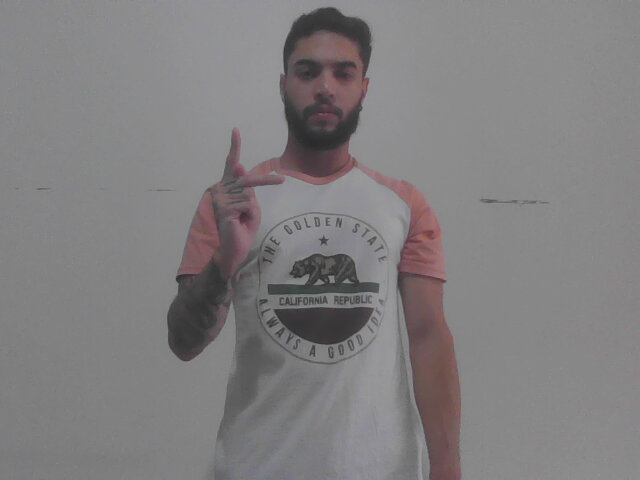h: (205, 124, 287, 274)
